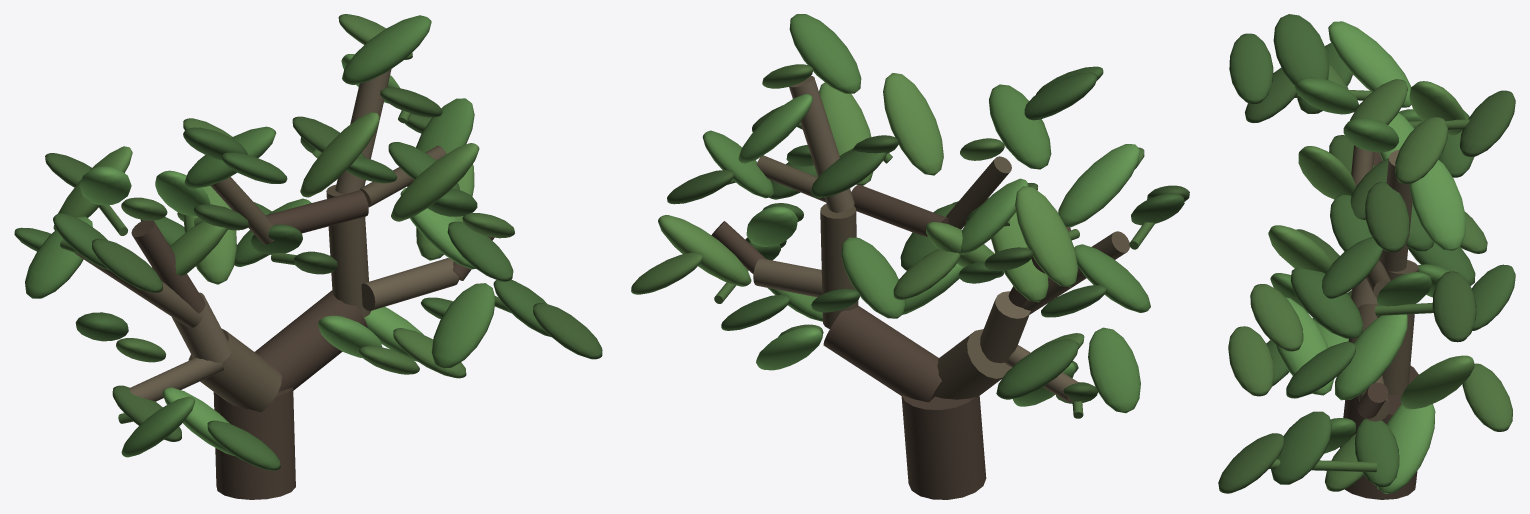
File: CMU3DRMCBushg3NaturalFinalCloud.glb
3 views of the same model, side by side, from view 1: azimuth 30°, elevation 25°; view 2: azimuth 150°, elevation 25°; view 3: azimuth 270°, elevation 25° (orthographic). The views are drawn at different scales.
Visible parts, largest first — view 1: continuous forked wood branch 01, continuous forked wood branch 07, source-position leaf spray 26, continuous forked wood branch 02, continuous forked wood branch 08, source-position leaf spray 18, source-position leaf spray 20, continuous forked wood branch 12, source-position leaf spray 16, continuous forked wood branch 10, source-position leaf spray 02, continuous forked wood branch 04 (+45 smaller); view 2: continuous forked wood branch 01, continuous forked wood branch 07, source-position leaf spray 16, source-position leaf spray 04, source-position leaf spray 03, source-position leaf spray 10, source-position leaf spray 18, source-position leaf spray 06, continuous forked wood branch 02, source-position leaf spray 14, source-position leaf spray 24, continuous forked wood branch 09 (+36 smaller); view 3: source-position leaf spray 19, source-position leaf spray 23, source-position leaf spray 03, source-position leaf spray 05, source-position leaf spray 25, source-position leaf spray 21, source-position leaf spray 27, branch-depth paired leaf 22, branch-depth paired leaf 05, branch-depth paired leaf 15, branch-depth paired leaf 19, branch-depth paired leaf 21 (+43 smaller).
Boxes of the visible parts, x1,y1,x2,y2 form: continuous forked wood branch 01: (213, 387, 295, 499); continuous forked wood branch 07: (255, 290, 367, 391); source-position leaf spray 26: (431, 283, 495, 368); continuous forked wood branch 02: (188, 329, 281, 411); continuous forked wood branch 08: (326, 184, 370, 317); source-position leaf spray 18: (342, 15, 431, 84); source-position leaf spray 20: (391, 143, 479, 221); continuous forked wood branch 12: (361, 258, 459, 310); source-position leaf spray 16: (300, 112, 379, 197); continuous forked wood branch 10: (266, 190, 368, 233); source-position leaf spray 02: (25, 216, 92, 298); continuous forked wood branch 04: (131, 220, 205, 313); continuous forked wood branch 01: (901, 395, 986, 499); continuous forked wood branch 07: (823, 305, 941, 402); source-position leaf spray 16: (883, 73, 943, 175); source-position leaf spray 04: (1015, 186, 1078, 287); source-position leaf spray 03: (1058, 144, 1139, 227); source-position leaf spray 10: (1088, 327, 1140, 413); source-position leaf spray 18: (789, 14, 861, 93); source-position leaf spray 06: (989, 84, 1051, 169); continuous forked wood branch 02: (935, 329, 1011, 399); source-position leaf spray 14: (841, 237, 905, 318); source-position leaf spray 24: (658, 215, 751, 286); continuous forked wood branch 09: (789, 75, 854, 212); source-position leaf spray 19: (1409, 159, 1465, 251); source-position leaf spray 23: (1335, 314, 1407, 400); source-position leaf spray 03: (1328, 21, 1411, 107); source-position leaf spray 05: (1273, 14, 1329, 85); source-position leaf spray 25: (1271, 411, 1332, 484); source-position leaf spray 21: (1290, 267, 1363, 338); source-position leaf spray 27: (1377, 404, 1435, 493); branch-depth paired leaf 22: (1432, 271, 1476, 342); branch-depth paired leaf 05: (1229, 33, 1273, 103); branch-depth paired leaf 15: (1228, 326, 1274, 396); branch-depth paired leaf 19: (1365, 182, 1409, 252); branch-depth paired leaf 21: (1250, 284, 1303, 351).
Bounding box in the file's own units: 0.6745 × 0.5732 × 0.3499.
